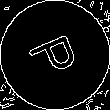P_NE: (25, 28, 85, 82)
